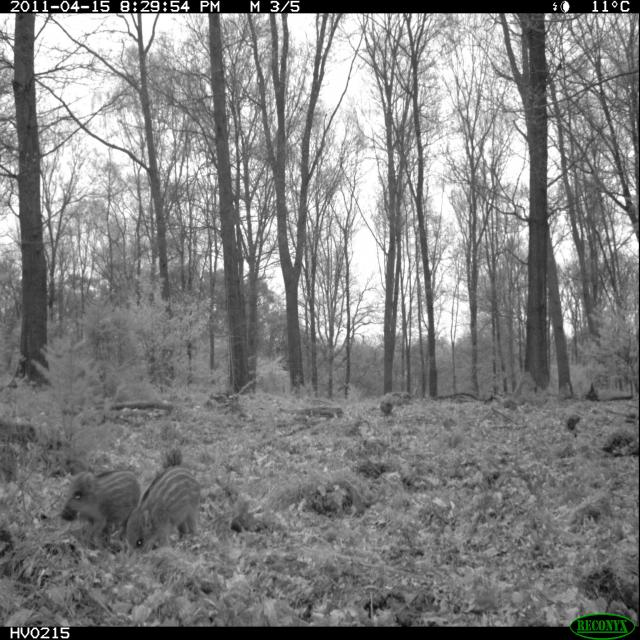boar: (46, 452, 162, 555), (131, 452, 215, 558)
